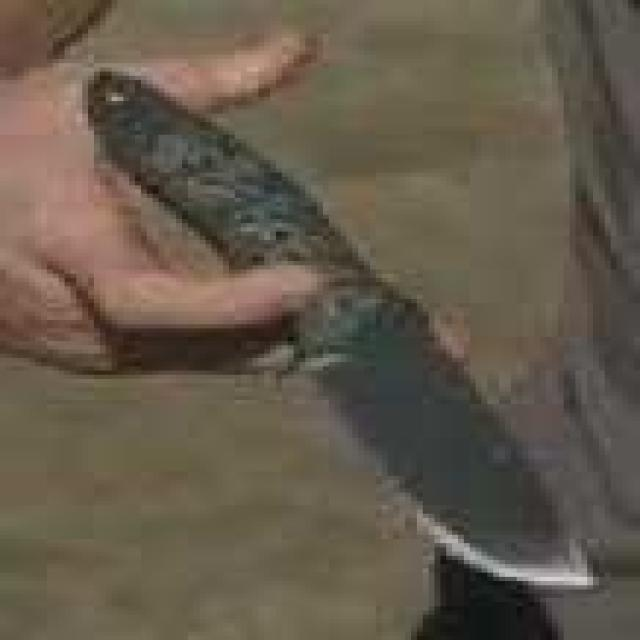Knife: (89, 64, 602, 602)
